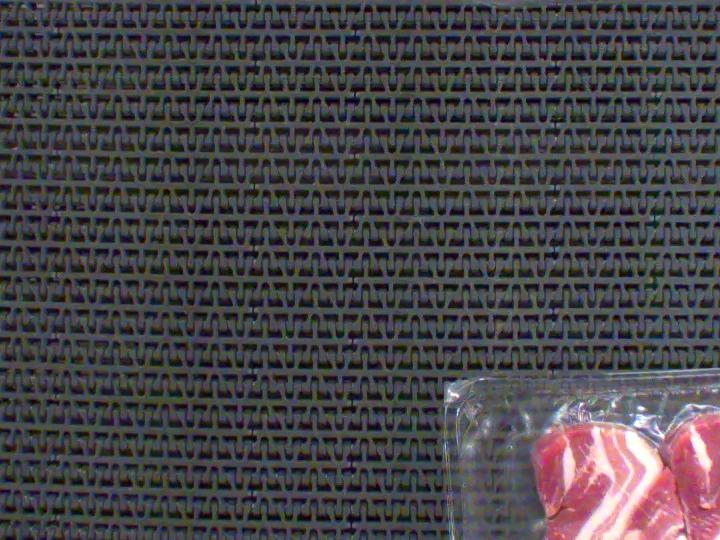unsealed: (463, 368, 720, 540)
